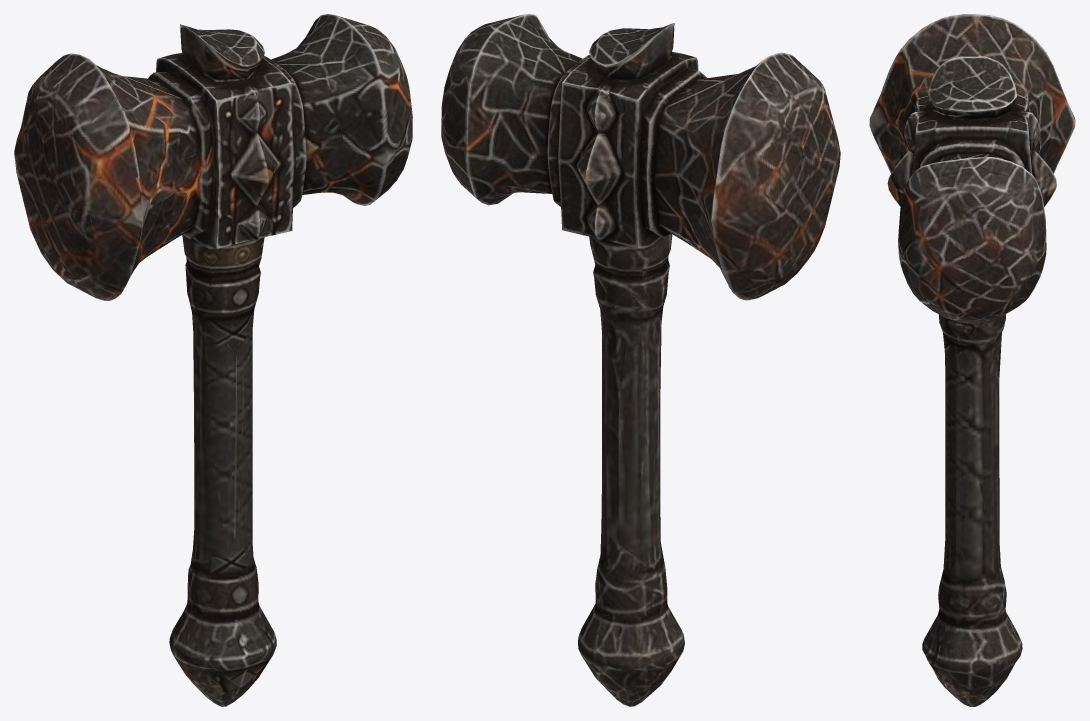
File: ember_hammer.glb
The picture shows the model from 3 angles, left to right: view 1: azimuth 30°, elevation 25°; view 2: azimuth 150°, elevation 25°; view 3: azimuth 270°, elevation 25°; orthographic projection. The views are drawn at different scales.
Bounding box in the file's own units: 0.7435 × 1.39 × 0.4085.
1 material, 1 textured.
